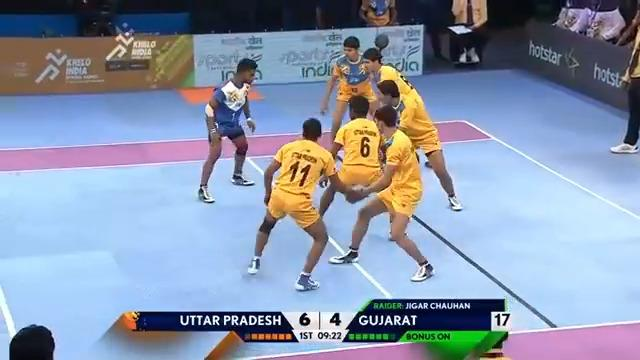Player: (327, 105, 435, 282), (246, 117, 350, 291), (359, 46, 463, 211), (319, 35, 378, 145), (609, 1, 639, 154)
Raider: (197, 57, 257, 203)
referee: (553, 0, 632, 45), (448, 0, 489, 65), (414, 0, 454, 61), (8, 323, 55, 359), (79, 0, 118, 36)
